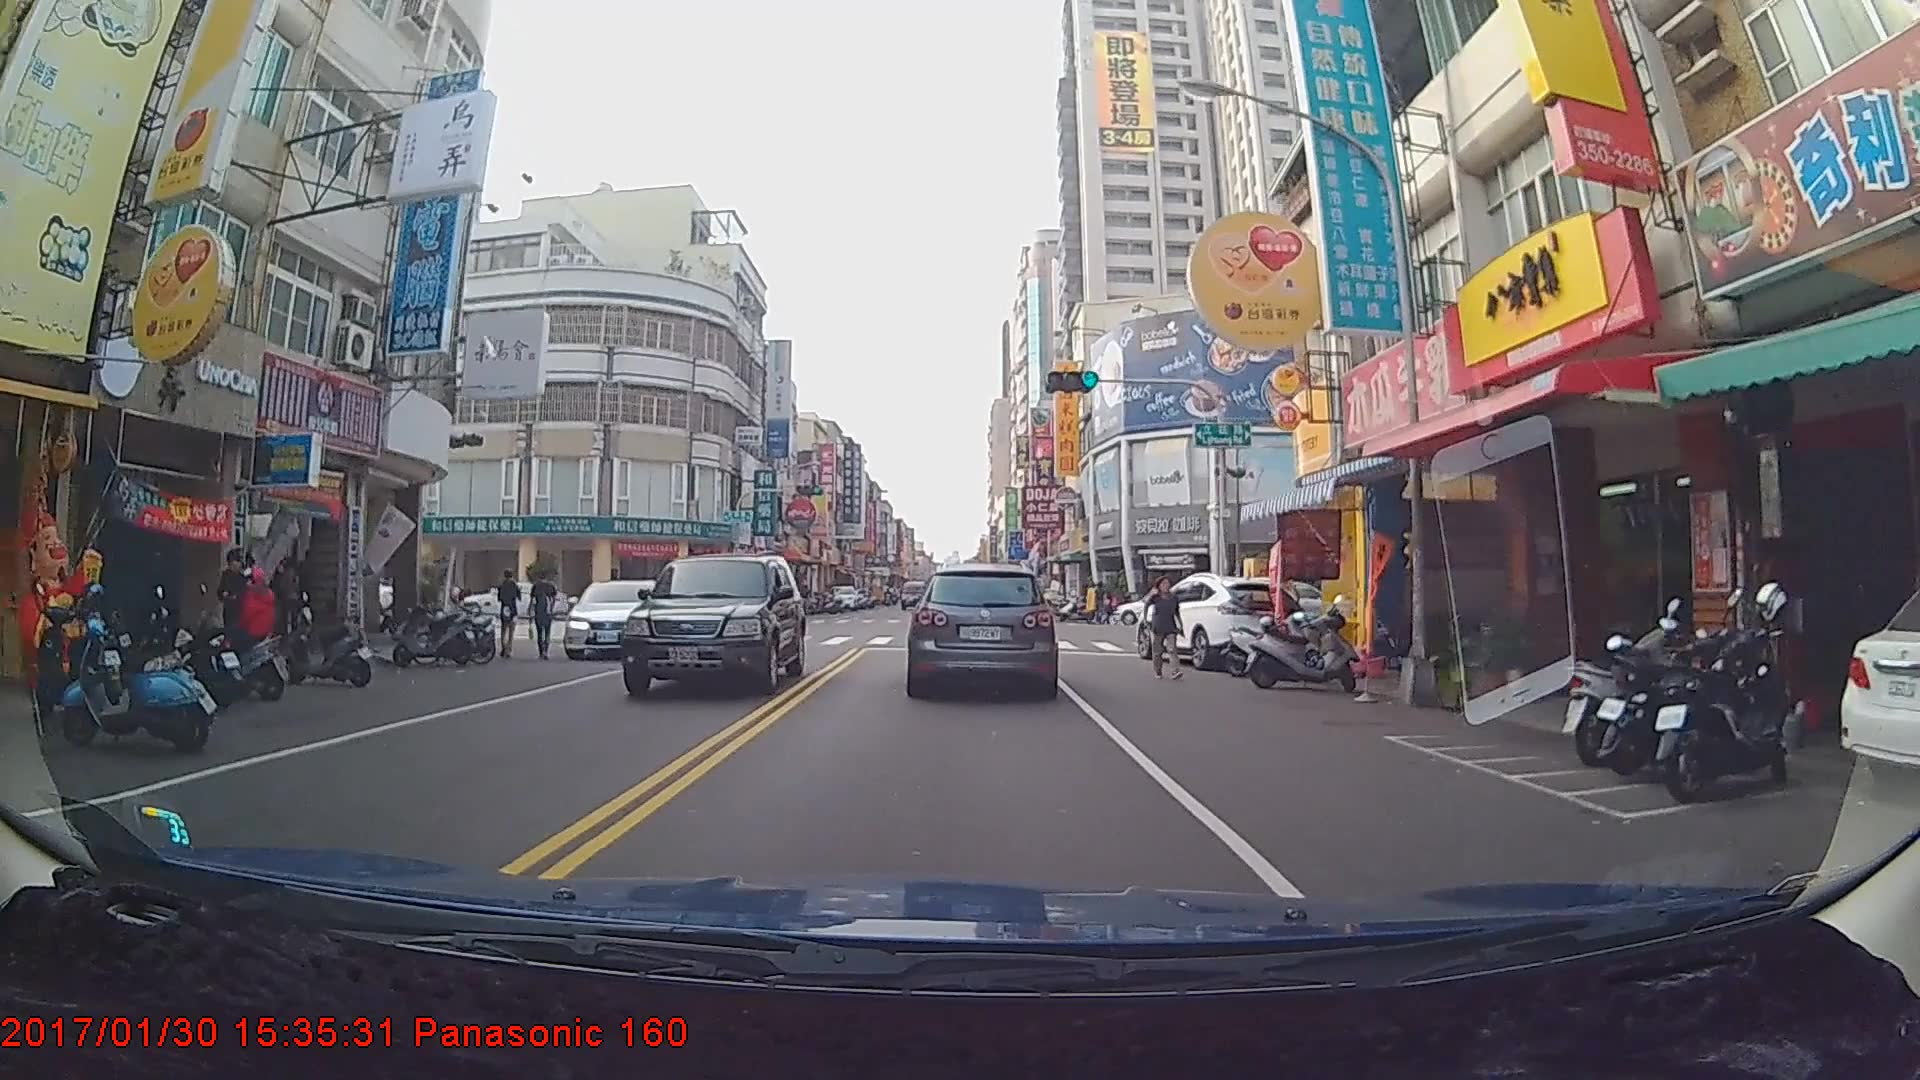pedestrian: (210, 544, 263, 673), (1145, 578, 1184, 680), (524, 566, 562, 657), (498, 571, 524, 663)
rider: (183, 565, 290, 704)
vehicle: (619, 552, 805, 699), (909, 564, 1055, 698), (1134, 572, 1309, 669), (563, 578, 674, 660), (827, 583, 860, 612), (900, 577, 929, 608)
